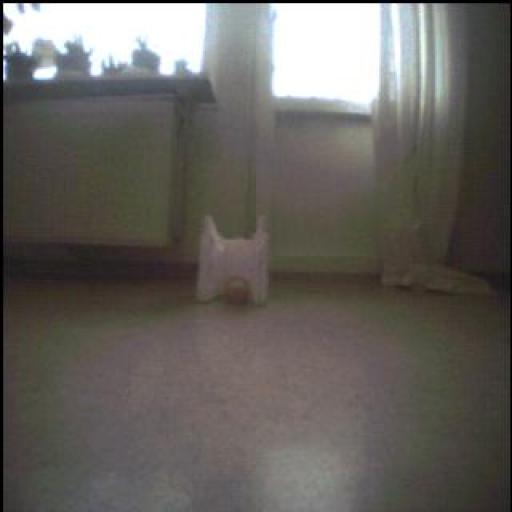Basket: (222, 274, 252, 309)
